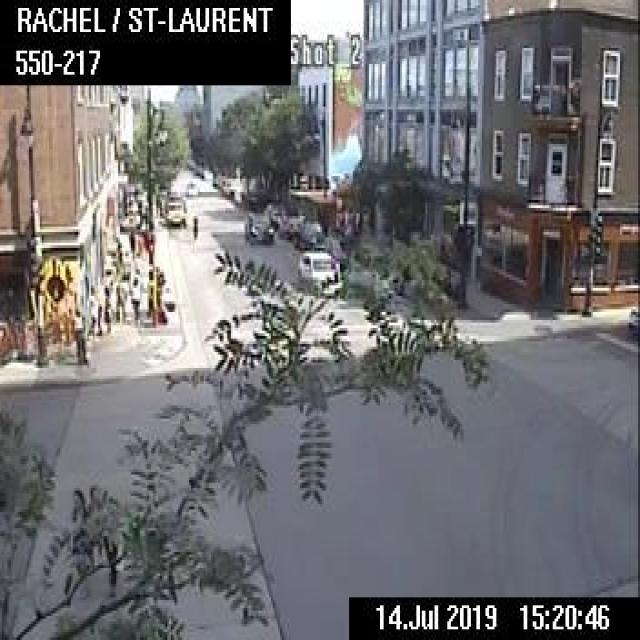cyclist: (190, 216, 197, 240)
pedestrian: (71, 308, 85, 362), (102, 280, 113, 331), (86, 283, 95, 334), (128, 274, 137, 324), (115, 281, 125, 322), (114, 239, 122, 282), (120, 248, 130, 280), (128, 223, 134, 254), (96, 302, 101, 336)
vehicle: (296, 250, 342, 296), (244, 209, 274, 241), (292, 216, 322, 246), (164, 197, 184, 224), (184, 179, 197, 194)
